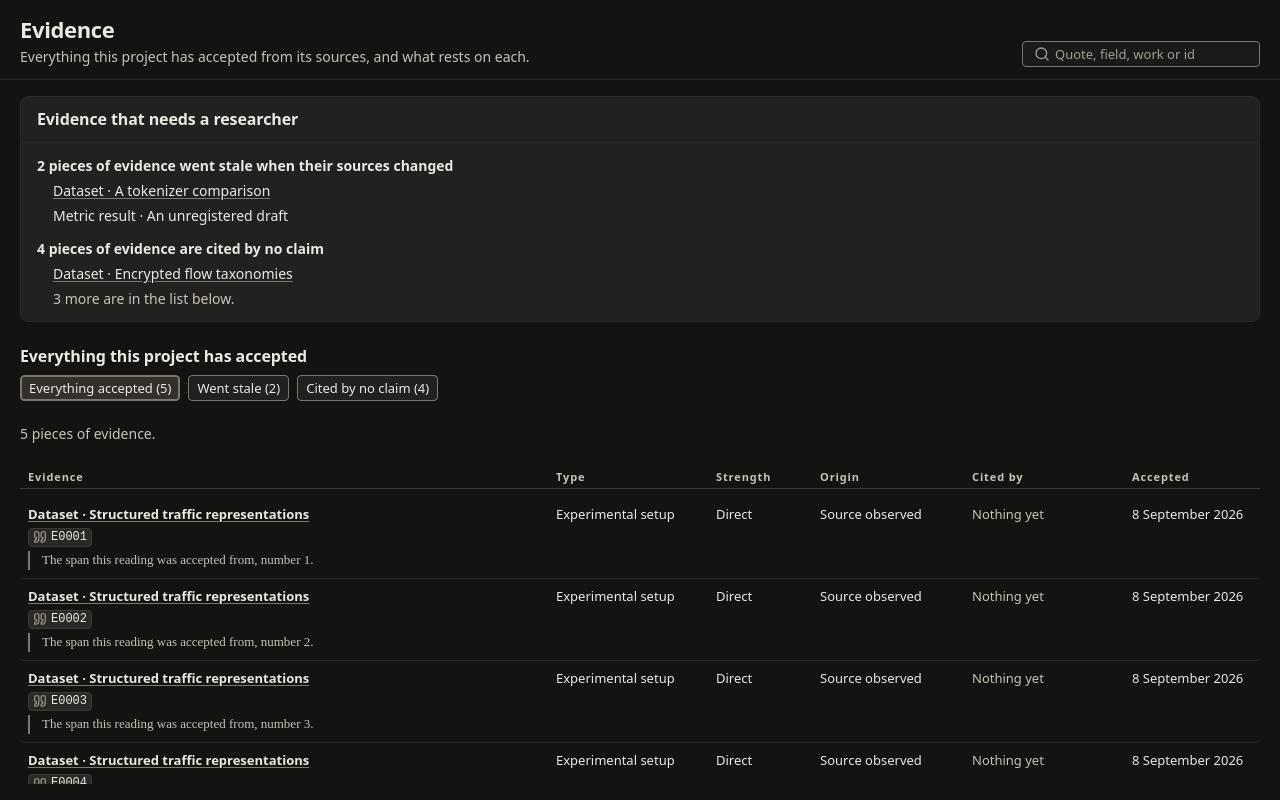
Scenario: the questions the accepted record can be asked › asks the daemon the question instead of filtering the list itself
This screenshot has width=1280, height=800.
Expected: the message reads "5 pieces of evidence.", [20,424,156,443]
Click the button "Went stale (2)" at (239, 388), box [188,375,289,401]
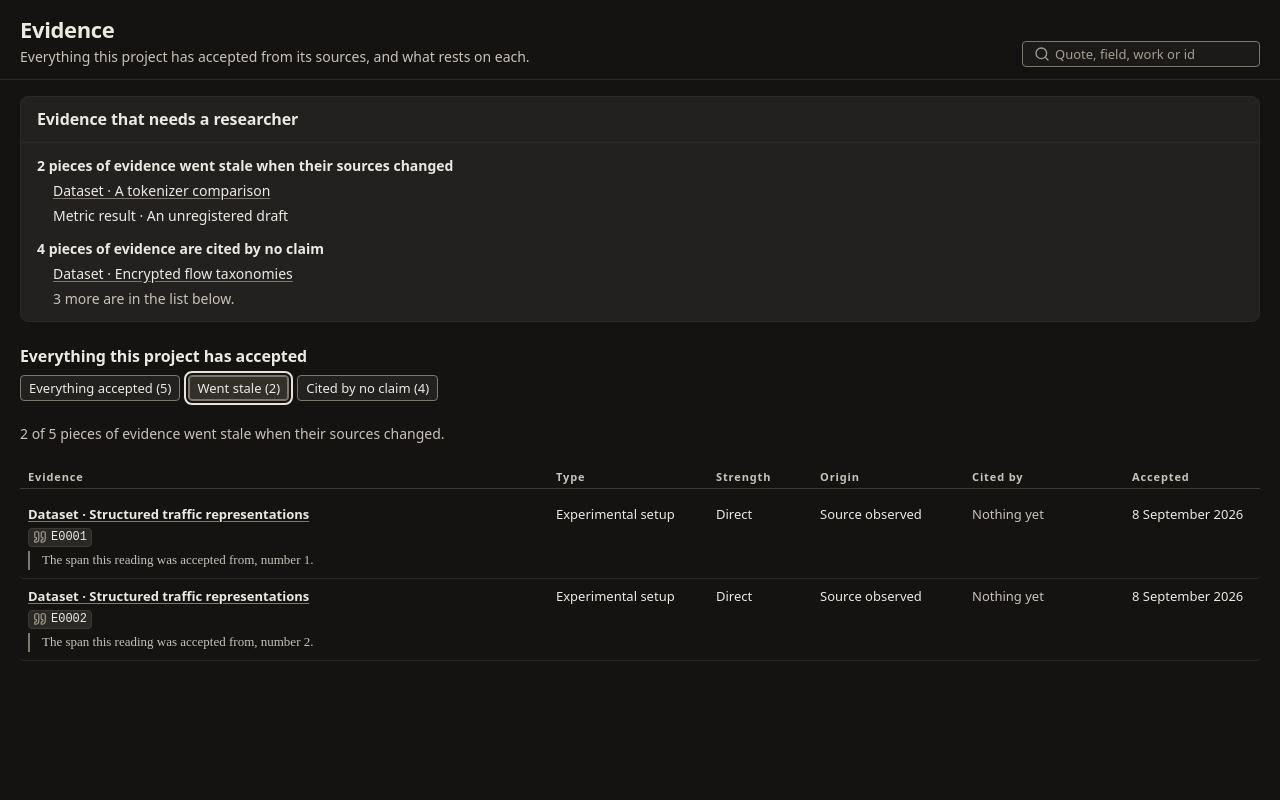
Expected: the text "4 pieces of evidence are cited by no claim" is shown, [37,239,324,258]
Expected: the message reads "2 of 5 pieces of evidence went stale when their sources changed.", [20,424,444,443]
# Pressing the chosen question again is the way back.
Click the button "Went stale (2)" at (239, 388), box [188,375,289,401]
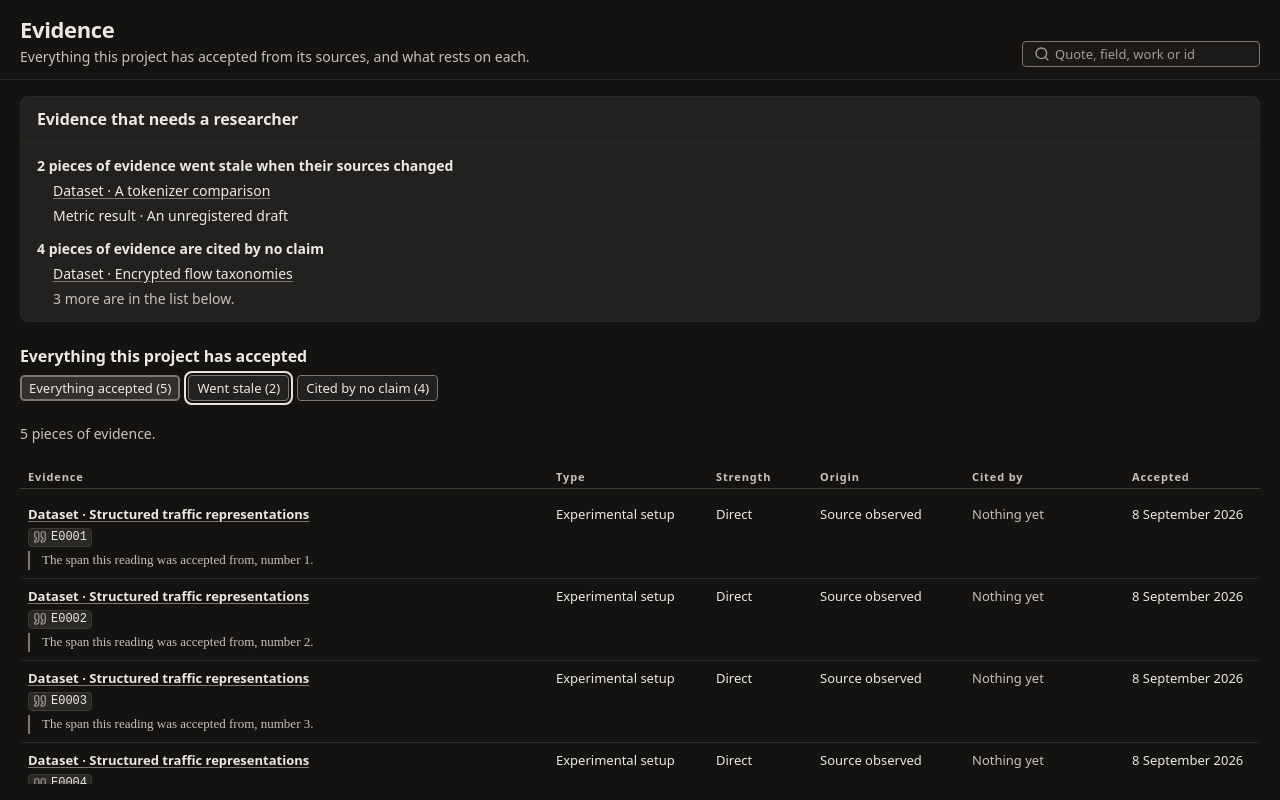
Expected: the message reads "5 pieces of evidence.", [20,424,156,443]
